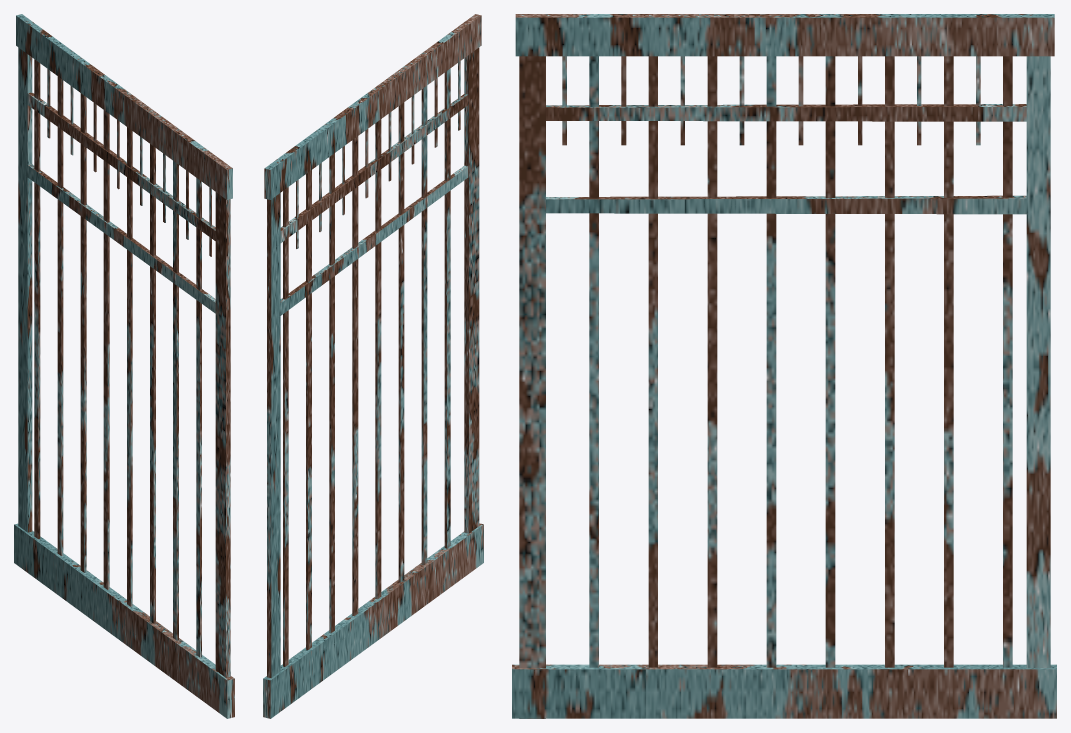
File: ExitModel.fbx
3 views of the same model, side by side, from view 1: azimuth 30°, elevation 25°; view 2: azimuth 150°, elevation 25°; view 3: azimuth 270°, elevation 25° (orthographic). The views are drawn at different scales.
Parts seen in each view (by area): view 1: exit; view 2: exit; view 3: exit.
Boxes of the visible parts, x1,y1,x2,y2 form: exit: [14, 14, 234, 718]; exit: [263, 14, 483, 718]; exit: [512, 14, 1056, 718].
Bounding box in the file's own units: 3.44 × 238 × 167.
